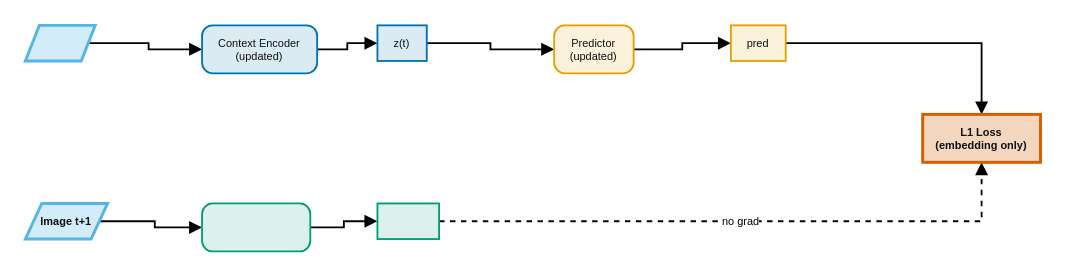
The diagram is 1066 pixels wide and 275 high, and some of its shapes have lost their labels. The shapes that lost their labels are listed below. From the top down, each one's centre as x and y in pixels, then its label:
point (59, 42): Image t
point (255, 227): Target Encoder (EMA, frozen)
point (407, 220): z(t+1)
